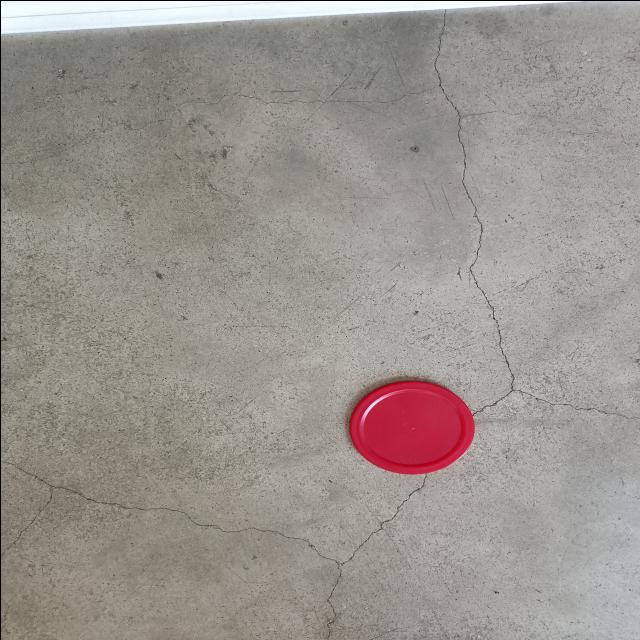chip: (346, 378, 476, 474)
